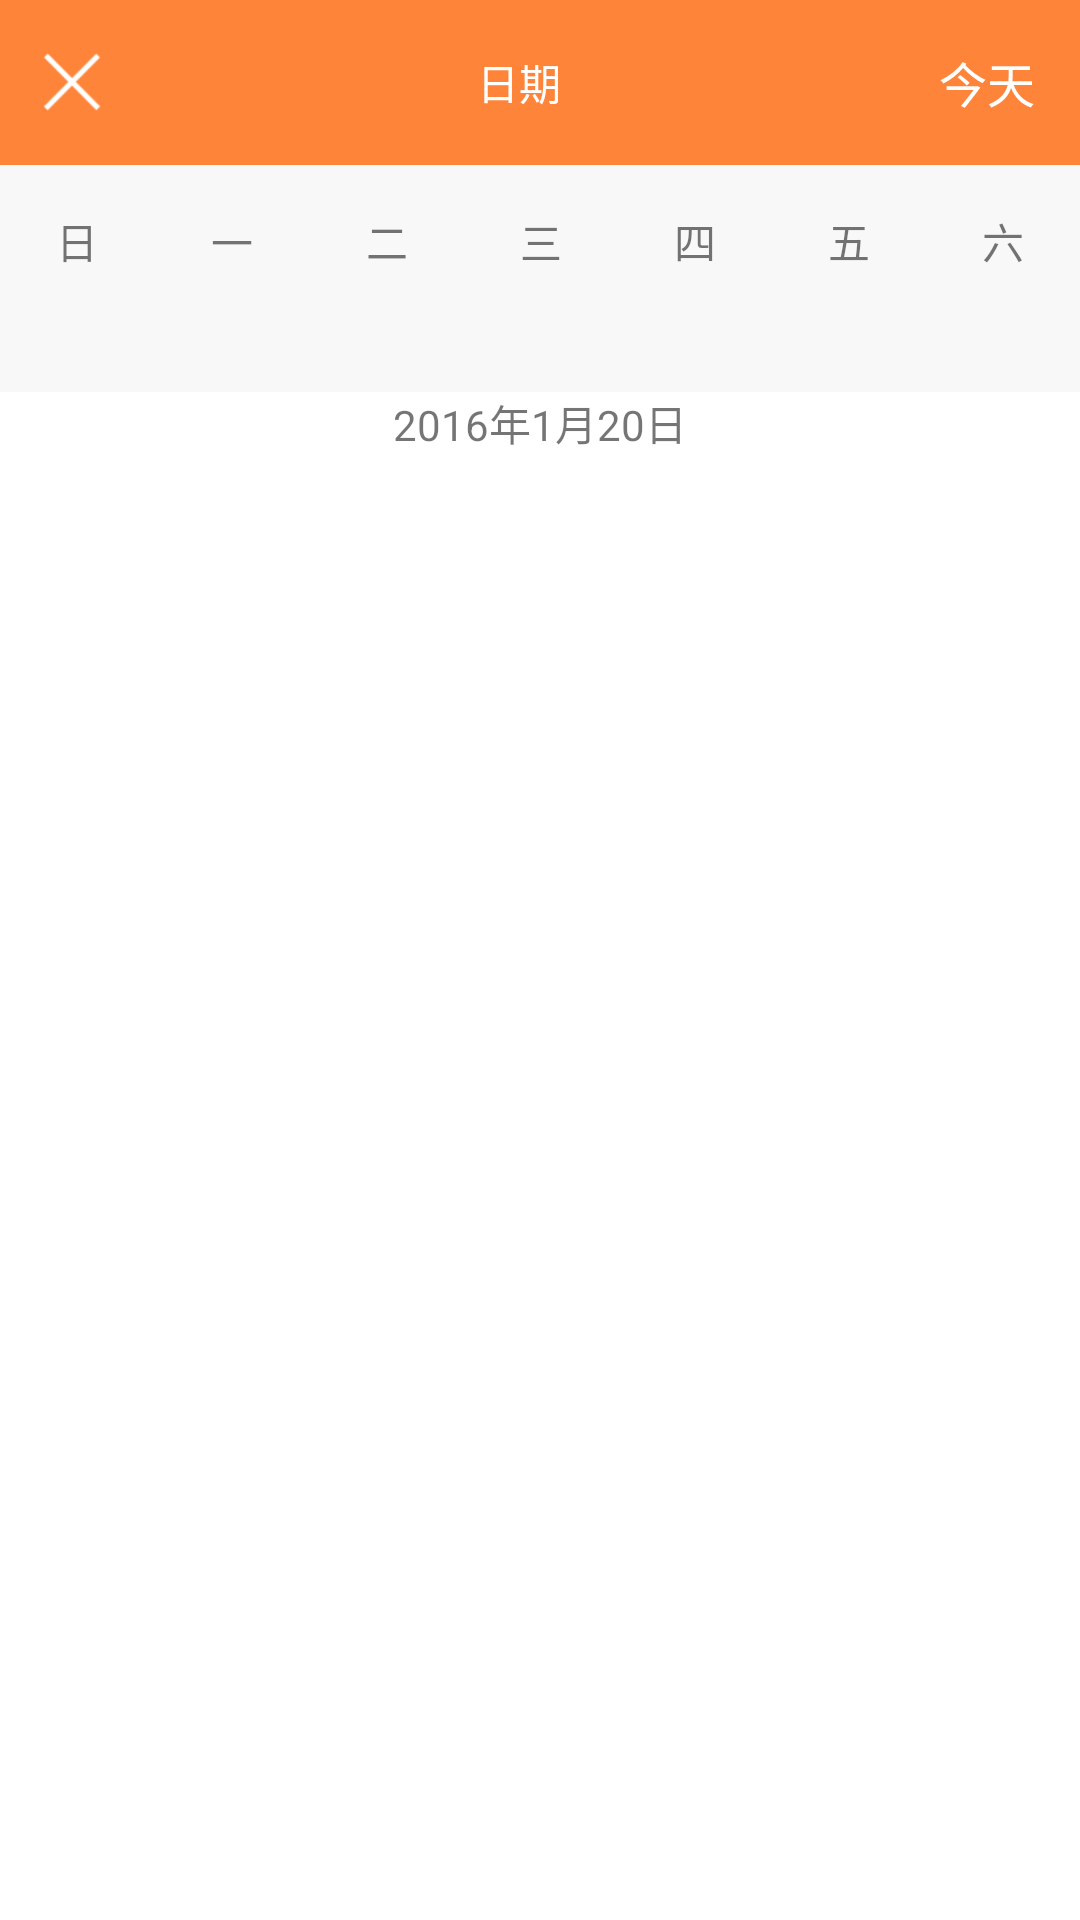

Screen size 1080*1920. Icon name, then its box in pixels as (x1, y1, x2, y2):
close: (44, 53, 100, 111)
